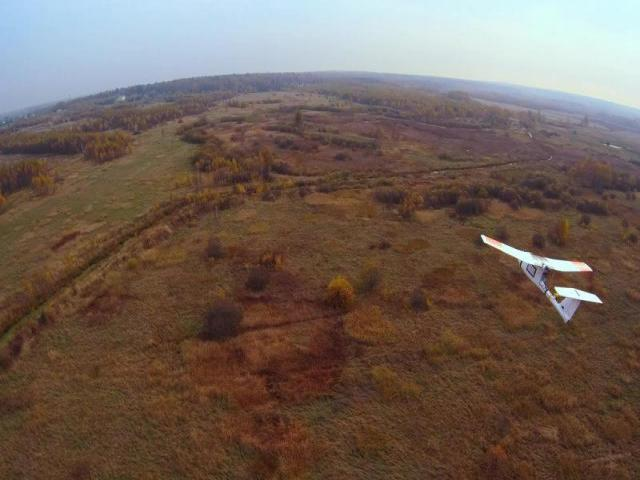hedef: (474, 219, 606, 323)
